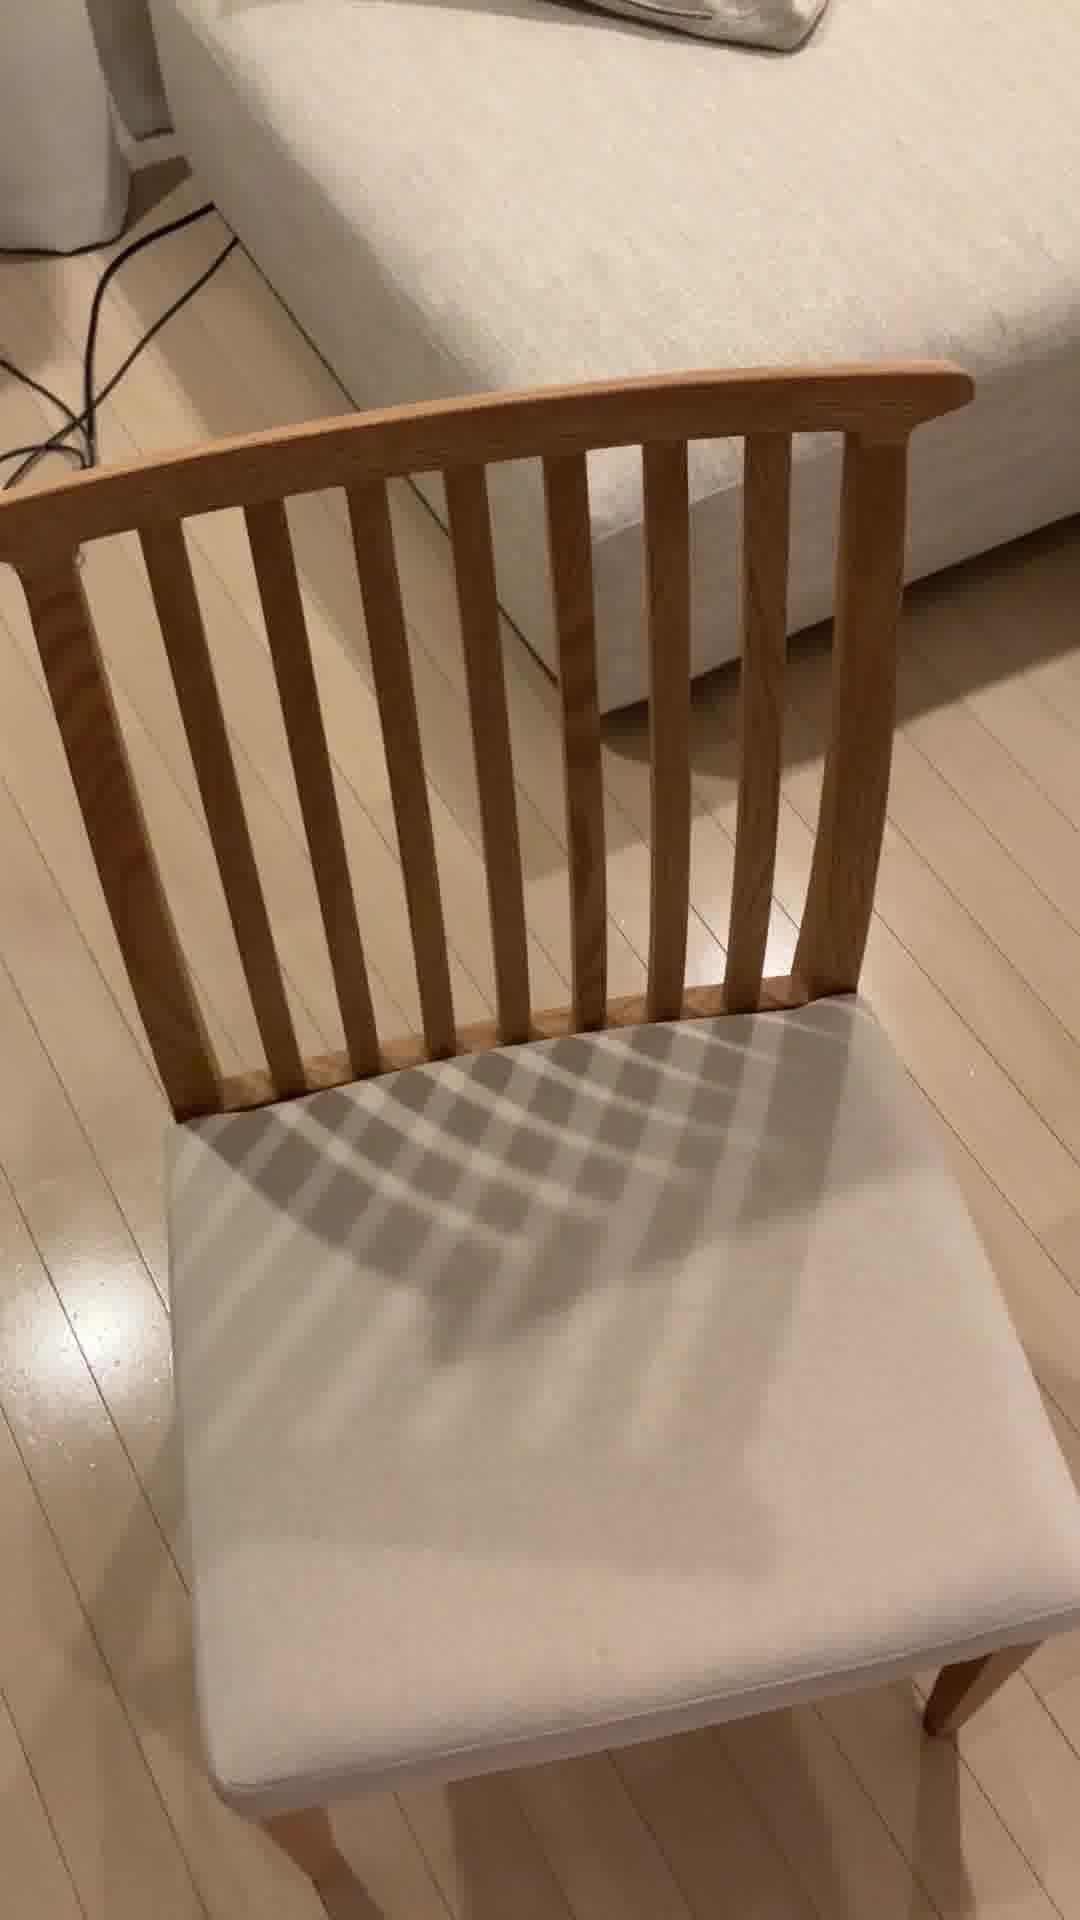takumikan-chair: (0, 352, 1080, 1873)
